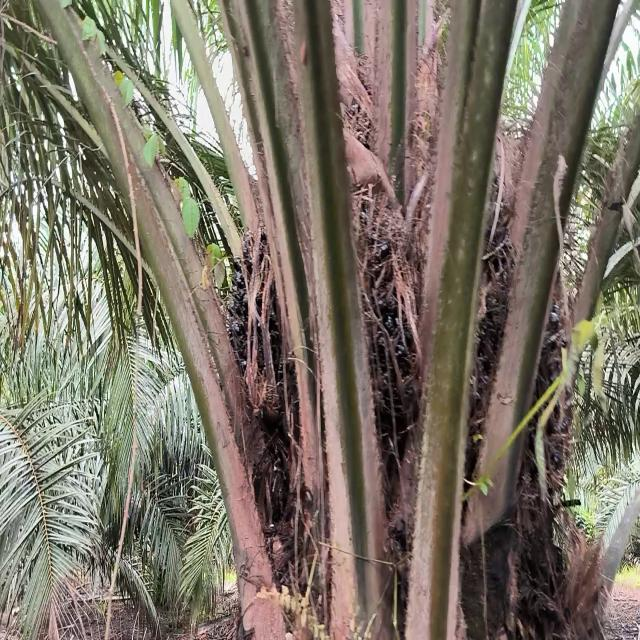palm-oil: (348, 237, 425, 489), (222, 236, 290, 452)
